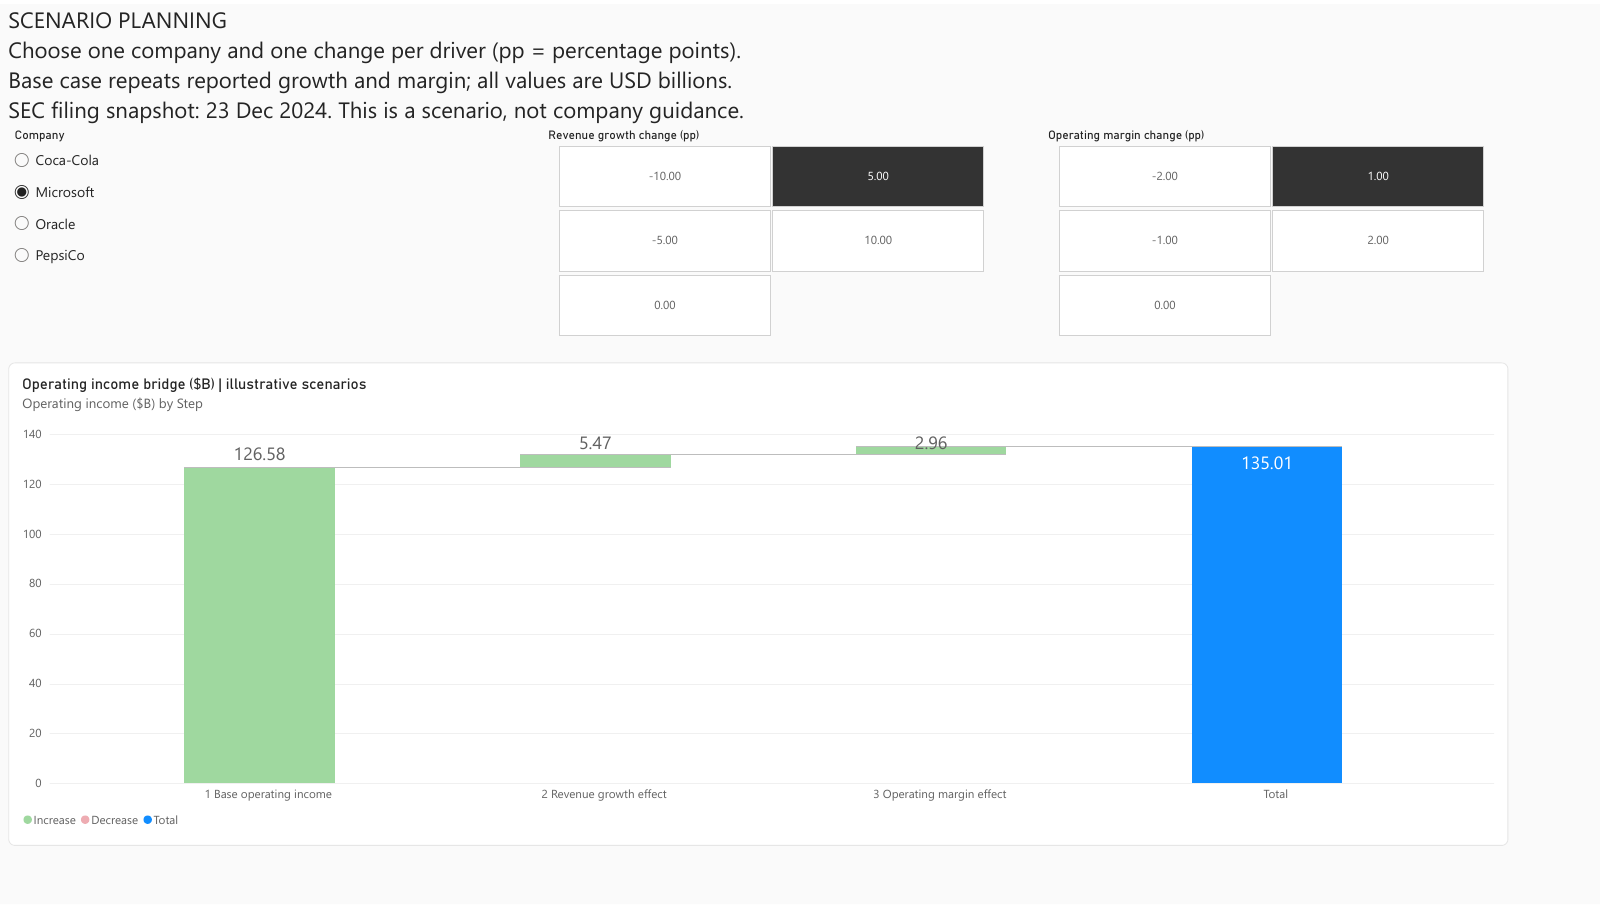

This screenshot's page, from the dashboard's own definition file:
{"tool":"powerbi","page":{"name":"Scenario planning","canvas":[1920,1080],"ordinal":1},"visuals":[{"type":"waterfallChart","title":"Operating income bridge ($B) | illustrative scenarios","fields":{"Category":["VarianceBridge.Step"],"Y":["Sum(VarianceBridge.AmountB)"]},"box":[10,430,1800,580],"z":0},{"type":"slicer","fields":{"Values":["VarianceBridge.Company"]},"box":[10,150,550,250],"z":1},{"type":"slicer","fields":{"Values":["VarianceBridge.GrowthChangePP"]},"box":[650,150,550,250],"z":2},{"type":"slicer","fields":{"Values":["VarianceBridge.MarginChangePP"]},"box":[1250,150,550,250],"z":3},{"type":"textbox","box":[10,0,1800,150],"z":4}]}

Visuals, with their boxes in screenshot pixels (x1, y1, x2, y2), scaled from the page's 1920x1080 canvas onto the 1600x909 screenshot:
"Operating income bridge ($B) | illustrative scenarios" waterfallChart: [left=8, top=362, right=1508, bottom=850]
slicer - VarianceBridge.Company: [left=8, top=126, right=467, bottom=337]
slicer - VarianceBridge.GrowthChangePP: [left=542, top=126, right=1000, bottom=337]
slicer - VarianceBridge.MarginChangePP: [left=1042, top=126, right=1500, bottom=337]
textbox: [left=8, top=0, right=1508, bottom=126]
